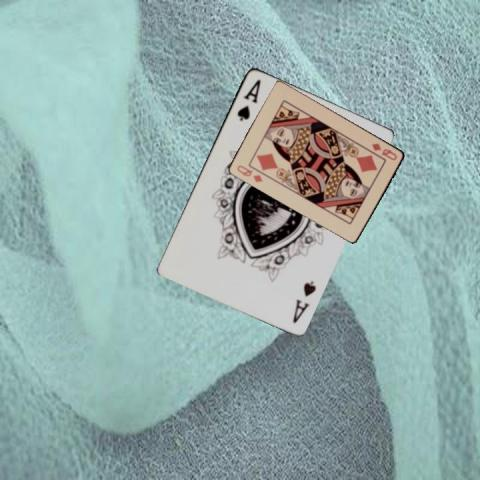As: (290, 277, 318, 325), (234, 76, 262, 122)
Qd: (368, 140, 398, 162), (234, 162, 265, 183)
